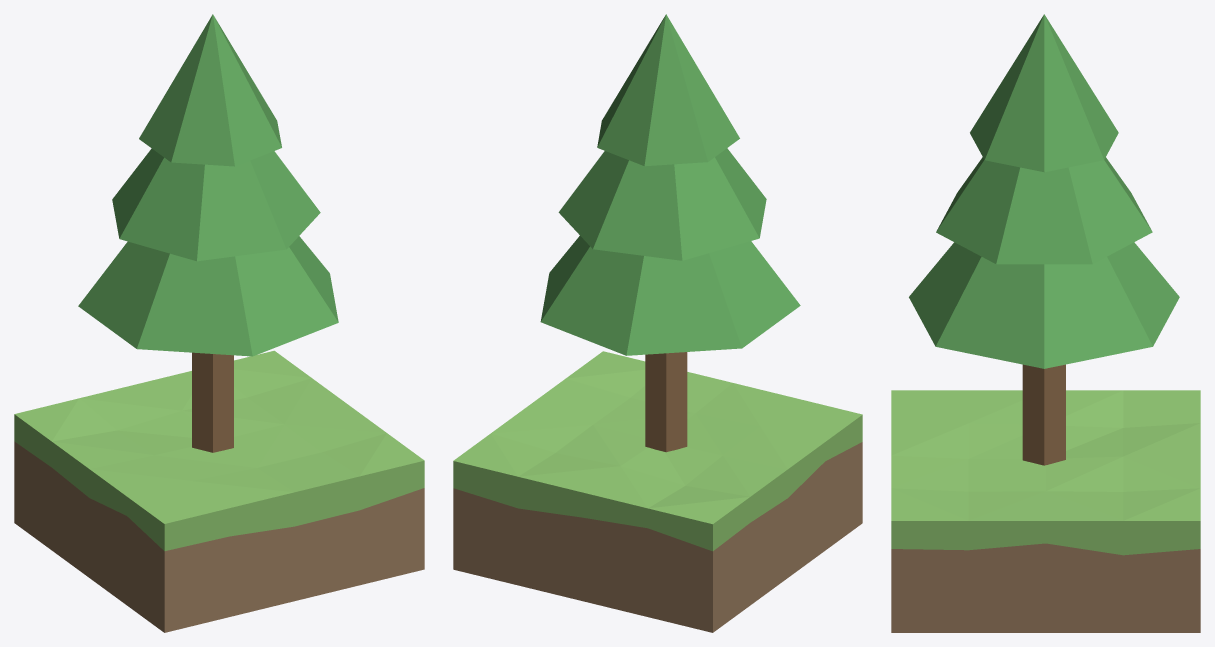
File: GrassTile_Center1.fbx
3 views of the same model, side by side, from view 1: azimuth 30°, elevation 25°; view 2: azimuth 150°, elevation 25°; view 3: azimuth 270°, elevation 25° (orthographic). The views are drawn at different scales.
Parts seen in each view (by area): view 1: GrassTile_Center1; view 2: GrassTile_Center1; view 3: GrassTile_Center1.
Boxes of the visible parts, box(x1,y1,x2,y2) form: GrassTile_Center1: box(14, 14, 424, 632); GrassTile_Center1: box(453, 14, 862, 632); GrassTile_Center1: box(891, 14, 1200, 632).
Bounding box in the file's own units: 1 × 1.96 × 1.
